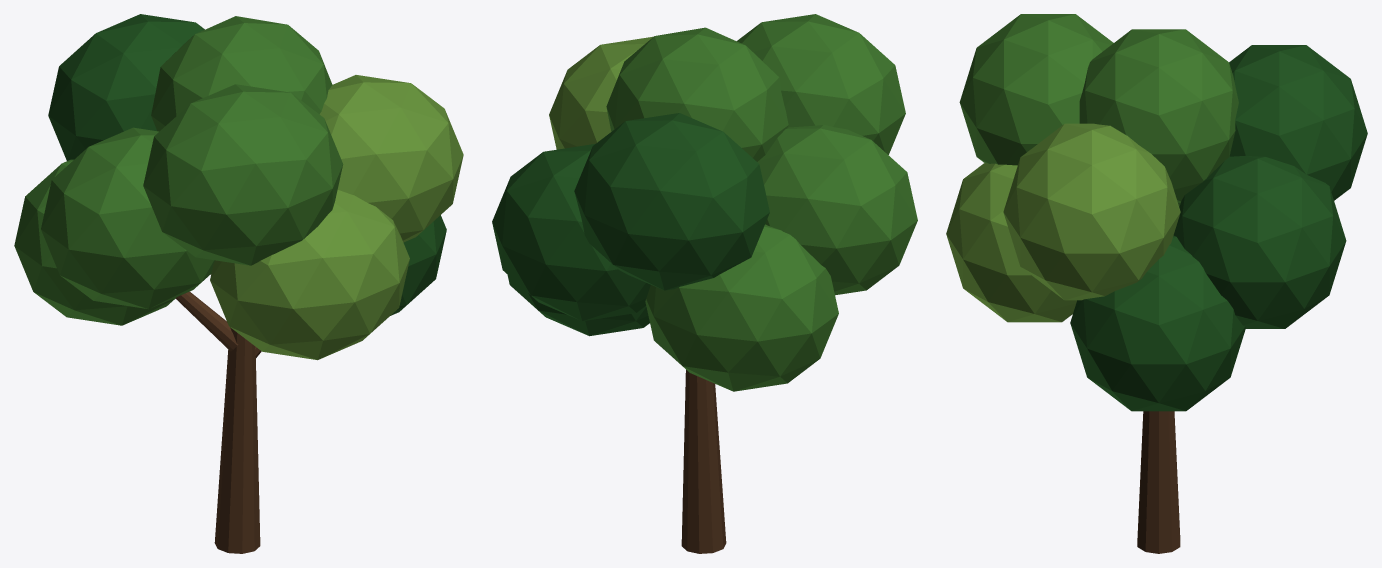
The picture shows the model from 3 angles, left to right: view 1: azimuth 30°, elevation 25°; view 2: azimuth 150°, elevation 25°; view 3: azimuth 270°, elevation 25°; orthographic projection. The views are drawn at different scales.
Visible parts, largest first — view 1: CANOPY_Rounded, CANOPY_Rounded.003, CANOPY_Rounded.005, CANOPY_Rounded.006, CANOPY_Rounded.007, CANOPY_Top, TRUNK, CANOPY_Rounded.002, CANOPY_Rounded.001, BRANCH.002; view 2: CANOPY_Rounded.007, CANOPY_Rounded.002, CANOPY_Rounded.005, CANOPY_Rounded.004, CANOPY_Top, CANOPY_Rounded, TRUNK, CANOPY_Rounded.006, CANOPY_Rounded.001; view 3: CANOPY_Rounded.006, CANOPY_Rounded.004, CANOPY_Rounded.001, CANOPY_Top, CANOPY_Rounded, CANOPY_Rounded.007, CANOPY_Rounded.003, TRUNK.
Part boxes in pixels (x1,y1,x2,y2): CANOPY_Rounded: (143, 84, 343, 265); CANOPY_Rounded.003: (210, 190, 409, 360); CANOPY_Rounded.005: (41, 127, 214, 309); CANOPY_Rounded.006: (319, 75, 463, 242); CANOPY_Rounded.007: (48, 14, 204, 160); CANOPY_Top: (151, 16, 332, 131); TRUNK: (214, 329, 260, 553); CANOPY_Rounded.002: (14, 159, 176, 325); CANOPY_Rounded.001: (390, 215, 446, 315); BRANCH.002: (175, 291, 238, 351); CANOPY_Rounded.007: (574, 113, 769, 290); CANOPY_Rounded.002: (645, 224, 838, 391); CANOPY_Rounded.005: (757, 125, 917, 295); CANOPY_Rounded.004: (492, 144, 650, 321); CANOPY_Top: (606, 27, 788, 161); CANOPY_Rounded: (737, 14, 905, 154); TRUNK: (681, 370, 726, 553); CANOPY_Rounded.006: (549, 36, 653, 149); CANOPY_Rounded.001: (507, 274, 649, 336); CANOPY_Rounded.006: (1003, 123, 1180, 300); CANOPY_Rounded.004: (1173, 155, 1346, 328); CANOPY_Rounded.001: (1070, 235, 1245, 411); CANOPY_Top: (1079, 29, 1238, 202); CANOPY_Rounded: (959, 14, 1113, 165); CANOPY_Rounded.007: (1229, 45, 1367, 200); CANOPY_Rounded.003: (946, 163, 1076, 322); TRUNK: (1137, 411, 1180, 553).
Size of the model in its own units: 5.87 by 7.51 by 5.59.
